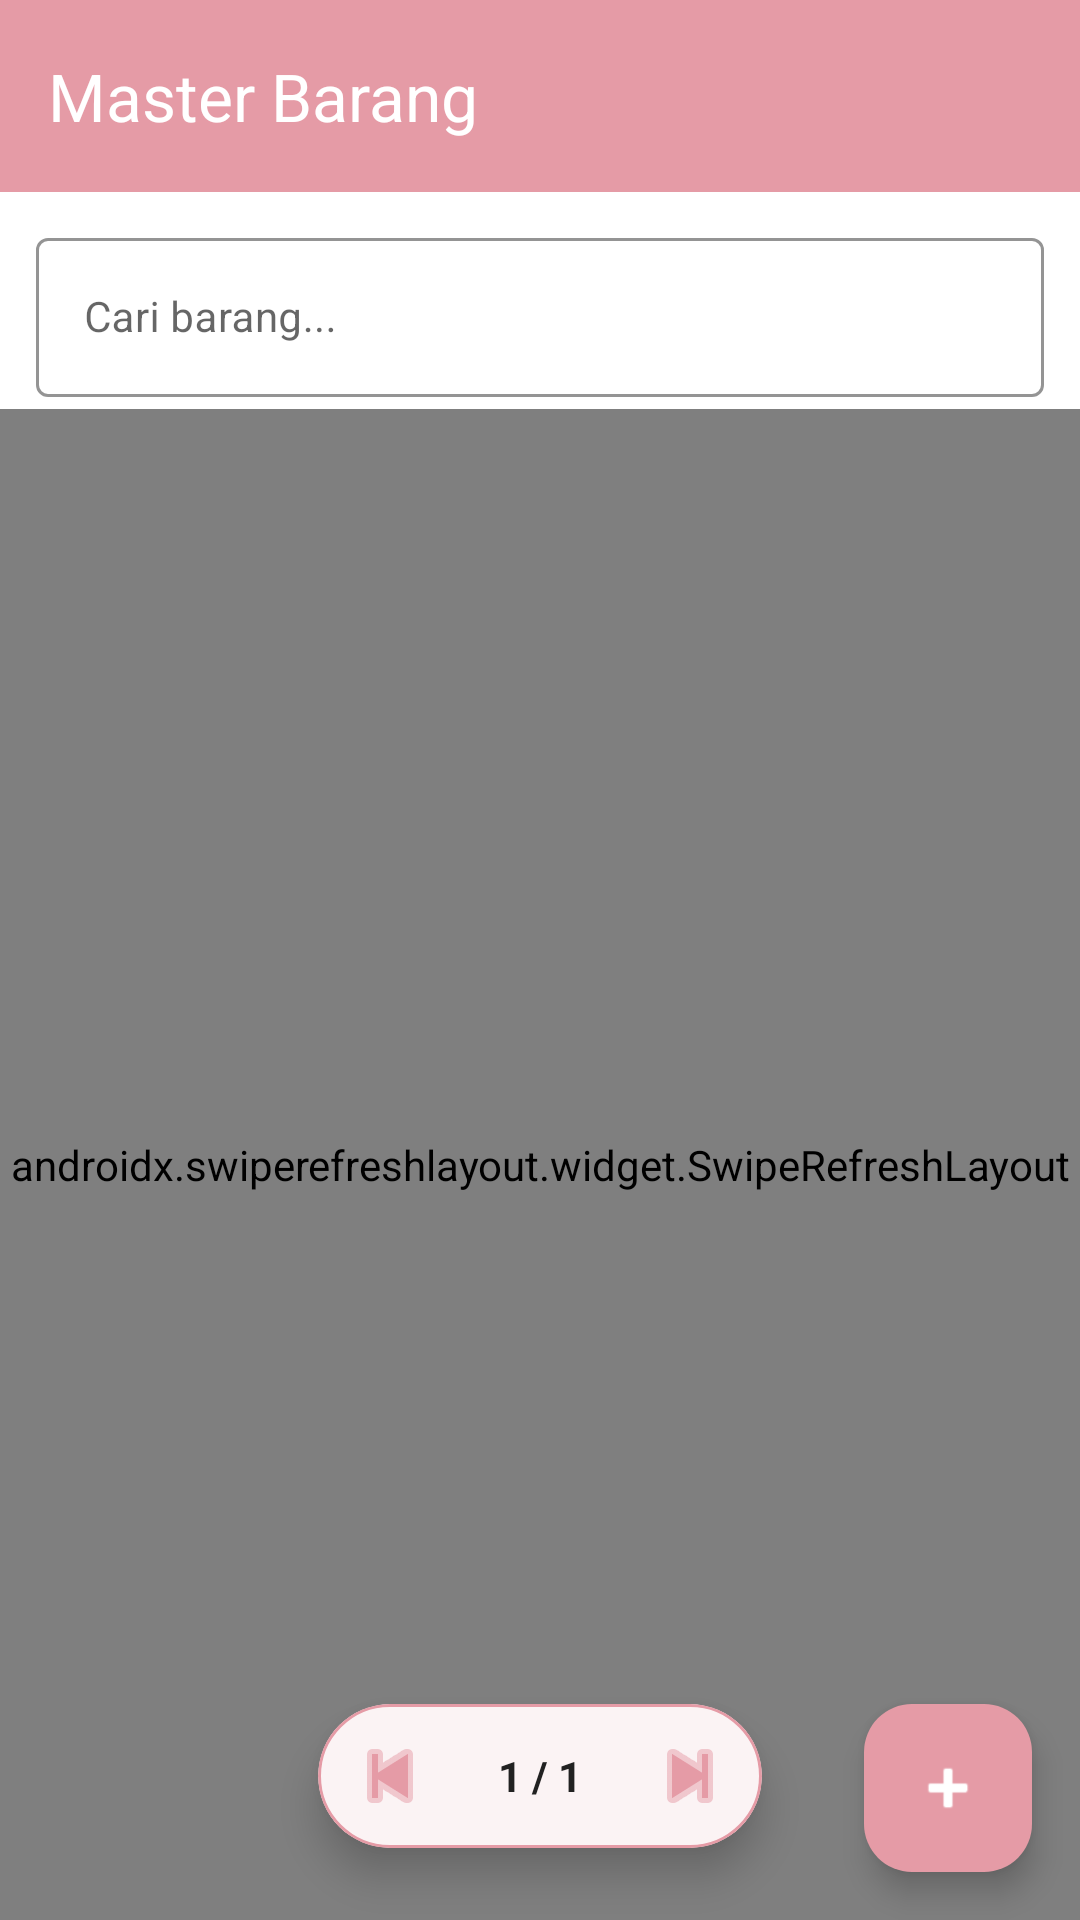

Where to tap for icons on this 1080x1920 app screen, as (x=x, y=y):
next: (x=690, y=1776)
previous: (x=390, y=1776)
Tambah Barang: (x=948, y=1788)
